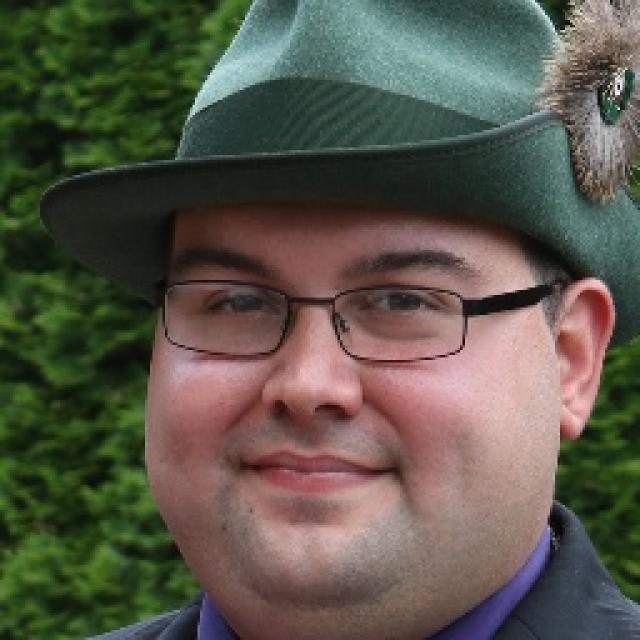earlobe: (554, 278, 616, 444)
